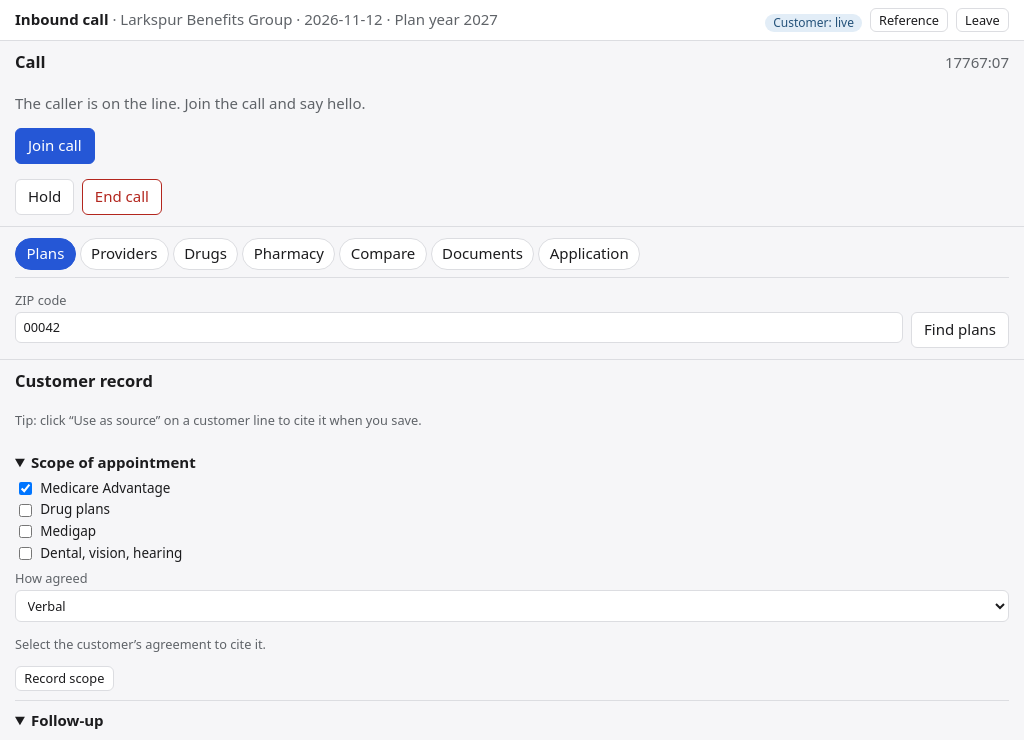
Test case: a voice call › has no typed composer, and Join connects and turns the mic on
The image size is (1024, 740).
Expected: the button "Hold" is shown, 15,179 -> 74,215
What coordinates should you click on to do the following:
click the button "Join call"
I would click on:
 (55, 146)
Its box is 15,128 -> 95,164.
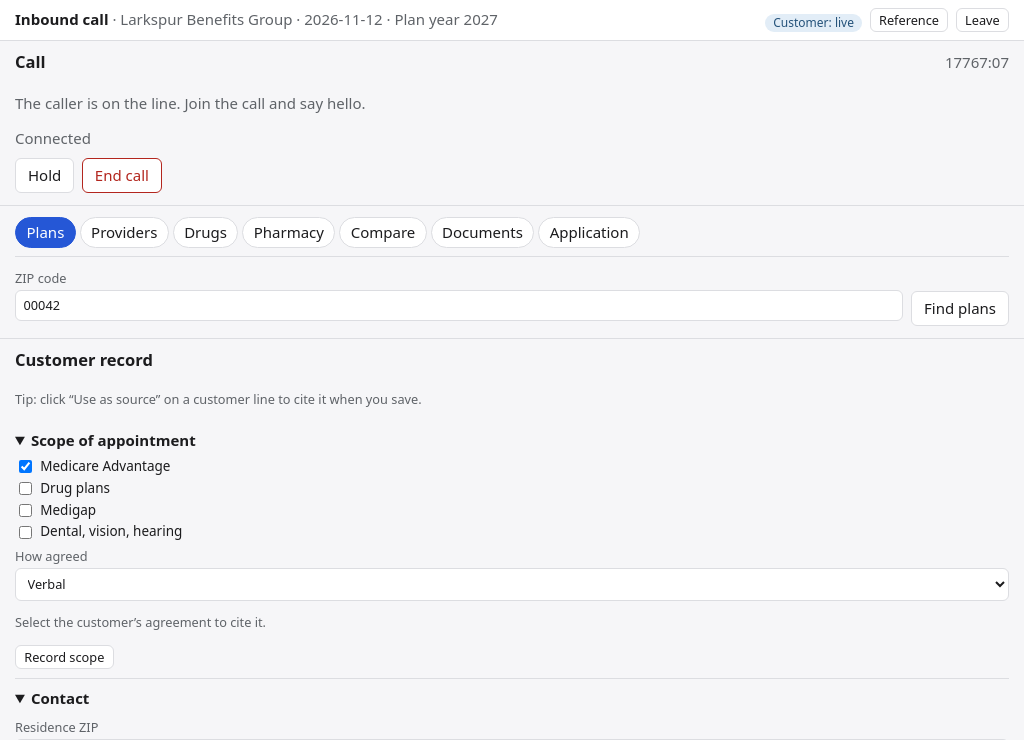
Result: the text "Connected" is shown at 15,128 -> 91,150
